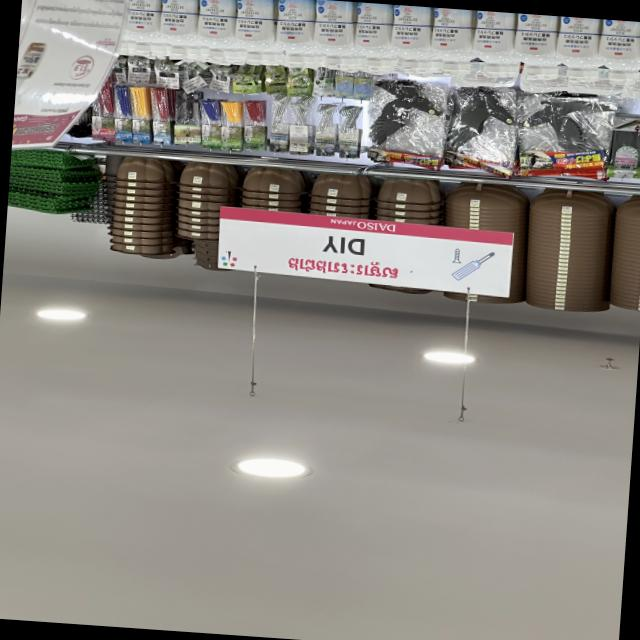Yolov11kh: (282, 253, 405, 284)
